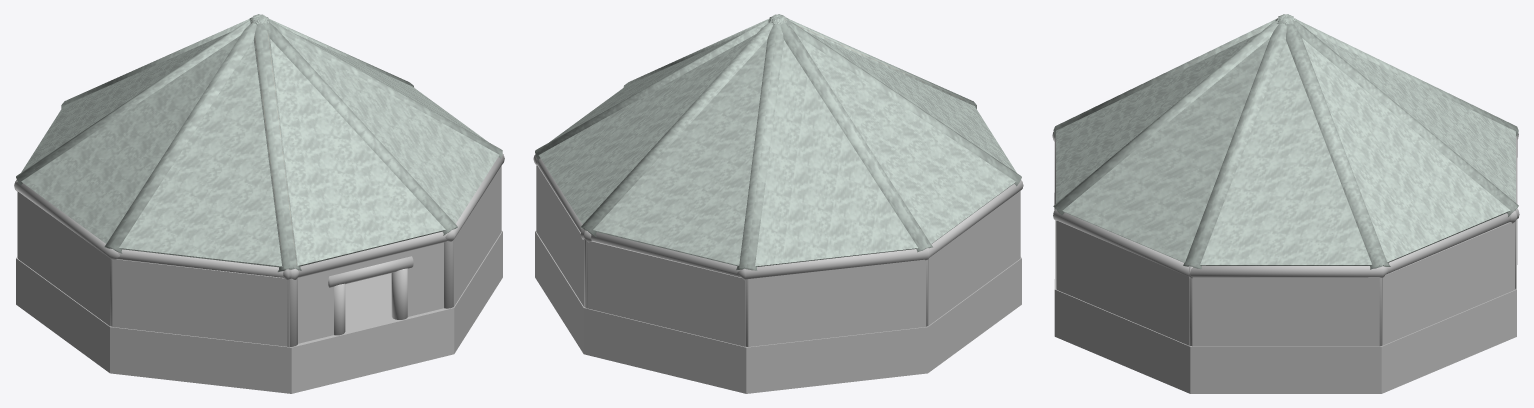
The model's file is Longhouse3.fbx.
3 renders of one model, left to right at view 1: azimuth 30°, elevation 25°; view 2: azimuth 150°, elevation 25°; view 3: azimuth 270°, elevation 25°, orthographic.
Parts seen in each view (by area): view 1: Longhouse3Top, Longhouse3Bottom; view 2: Longhouse3Top, Longhouse3Bottom; view 3: Longhouse3Top, Longhouse3Bottom.
Boxes of the visible parts, <box> form: Longhouse3Top: <box>16,14,502,272</box>; Longhouse3Bottom: <box>14,154,504,393</box>; Longhouse3Top: <box>535,14,1021,270</box>; Longhouse3Bottom: <box>533,155,1023,393</box>; Longhouse3Top: <box>1053,14,1518,269</box>; Longhouse3Bottom: <box>1052,132,1519,393</box>.
Size of the model in its own units: 3313 by 2198 by 3320.
